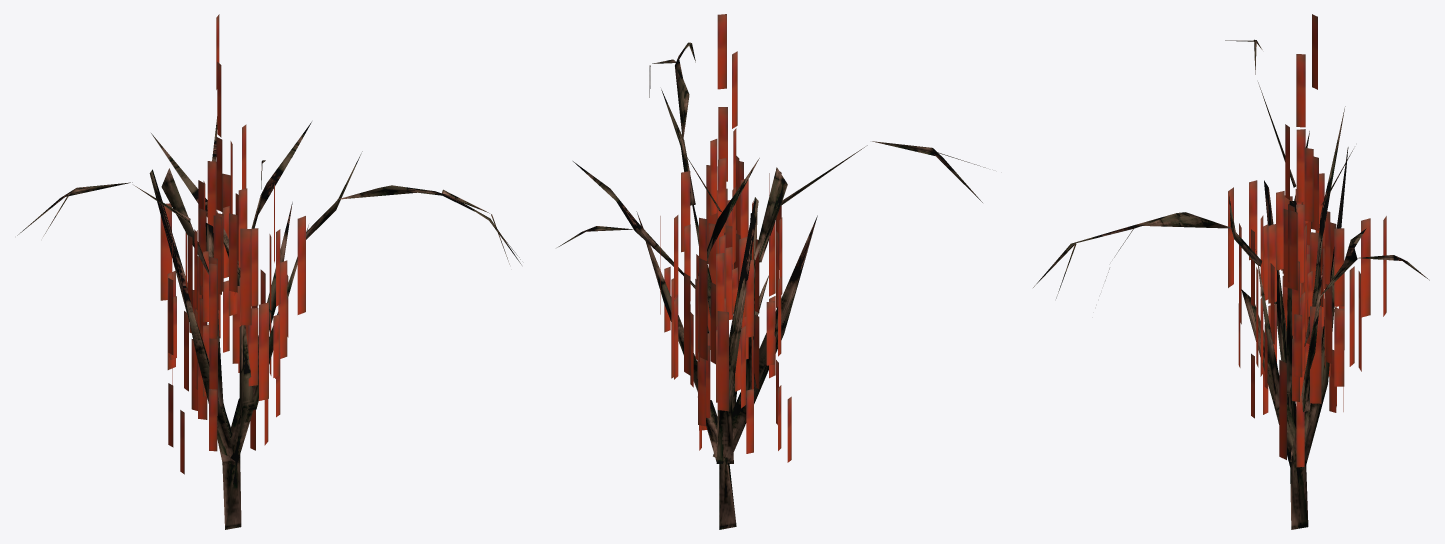
The model's file is RedTree_10.gltf.
3 views of the same model, side by side, from view 1: azimuth 30°, elevation 25°; view 2: azimuth 150°, elevation 25°; view 3: azimuth 270°, elevation 25° (orthographic). The views are drawn at different scales.
Visible parts, largest first — view 1: RedTree_10; view 2: RedTree_10; view 3: RedTree_10.
Boxes of the visible parts, left/top/right/bottom form: RedTree_10: left=17, top=14, right=521, bottom=529; RedTree_10: left=557, top=14, right=985, bottom=529; RedTree_10: left=1033, top=14, right=1429, bottom=529.
Bounding box in the file's own units: 4.66 × 5.47 × 3.89.
88 materials, 88 textured.
